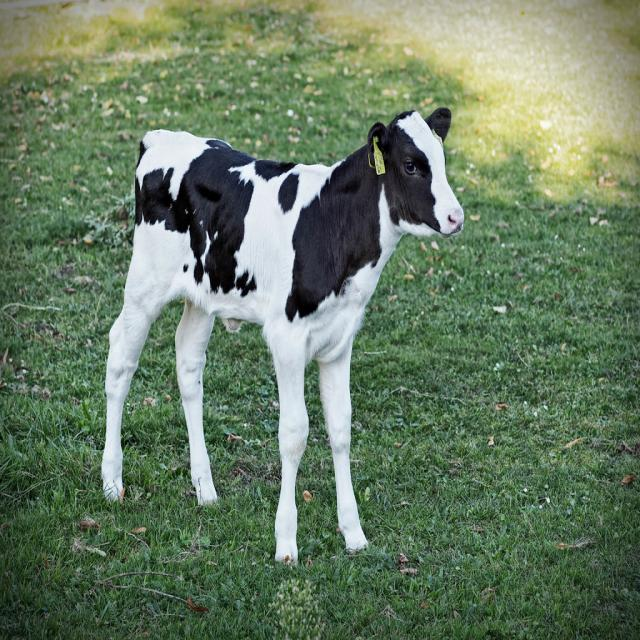Cattle: (100, 106, 468, 570)
